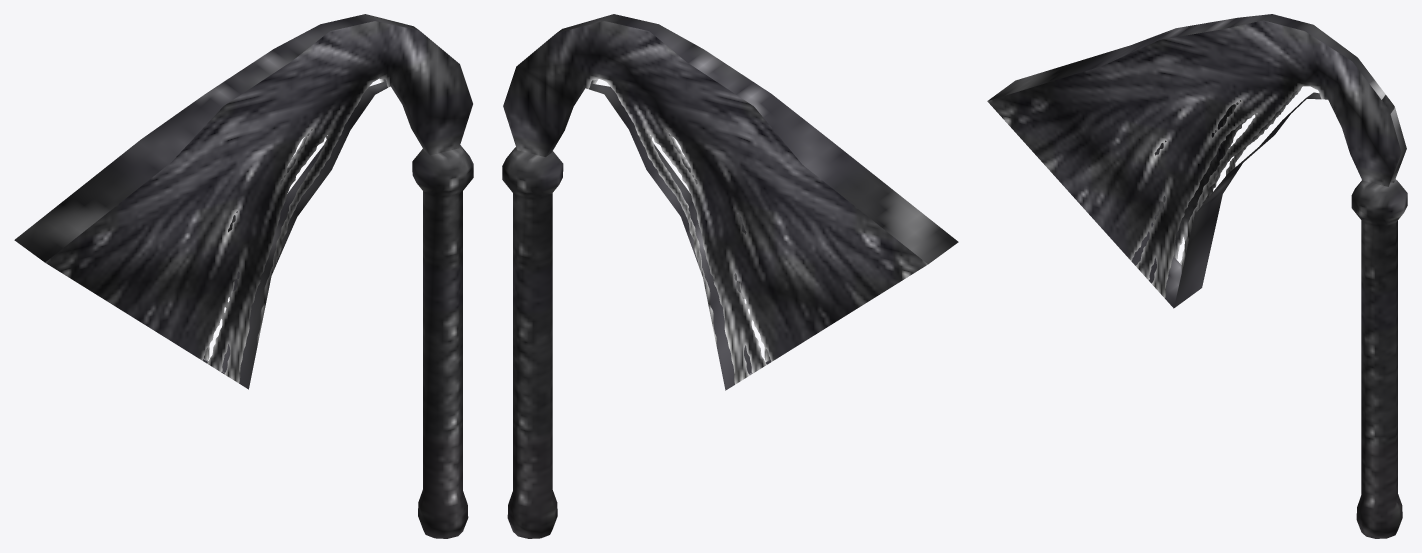
Rendered from bdsm_whip.FBX.
3 views of the same model, side by side, from view 1: azimuth 30°, elevation 25°; view 2: azimuth 150°, elevation 25°; view 3: azimuth 330°, elevation 25° (orthographic). The views are drawn at different scales.
Parts seen in each view (by area): view 1: bdsm_whip; view 2: bdsm_whip; view 3: bdsm_whip.
Part boxes in pixels (<box>): bdsm_whip: <box>14,14,473,538</box>; bdsm_whip: <box>502,14,958,538</box>; bdsm_whip: <box>987,14,1407,538</box>.
Size of the model in its own units: 59.95 by 69.43 by 7.26.
